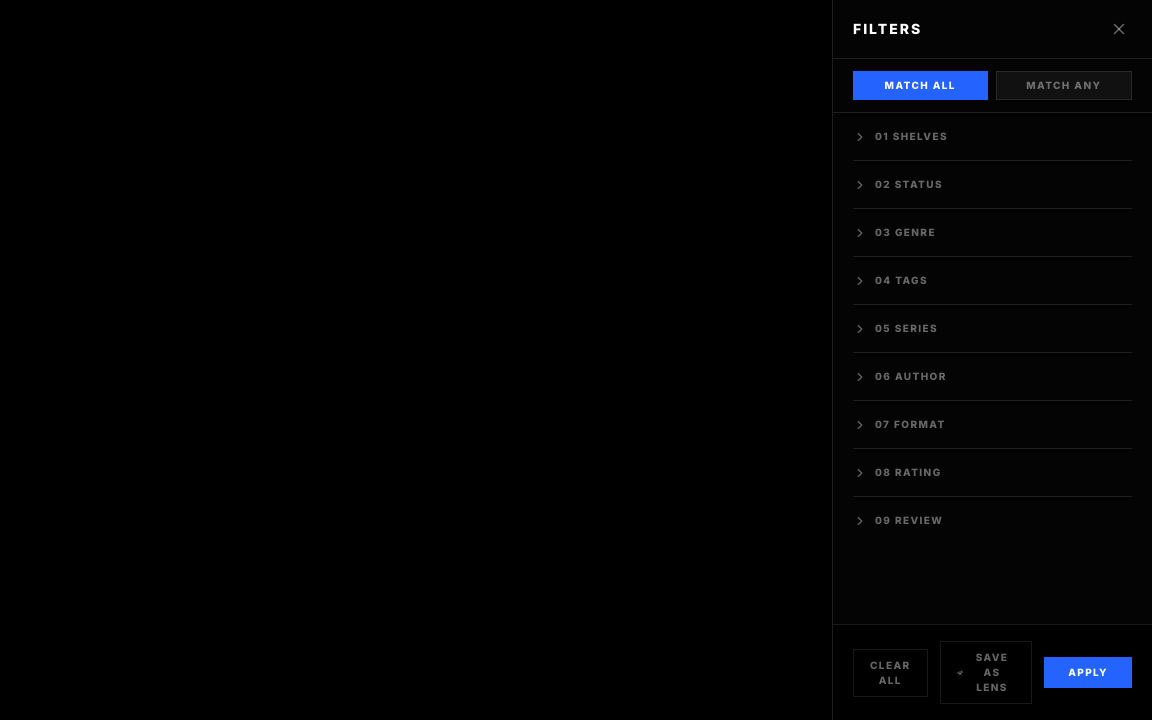
Test: FilterDrawer › opens SaveLensModal when Save as Lens is clicked
Click the button with test id "save-as-lens-btn". click: (986, 672)
box: [940,641,1032,704]
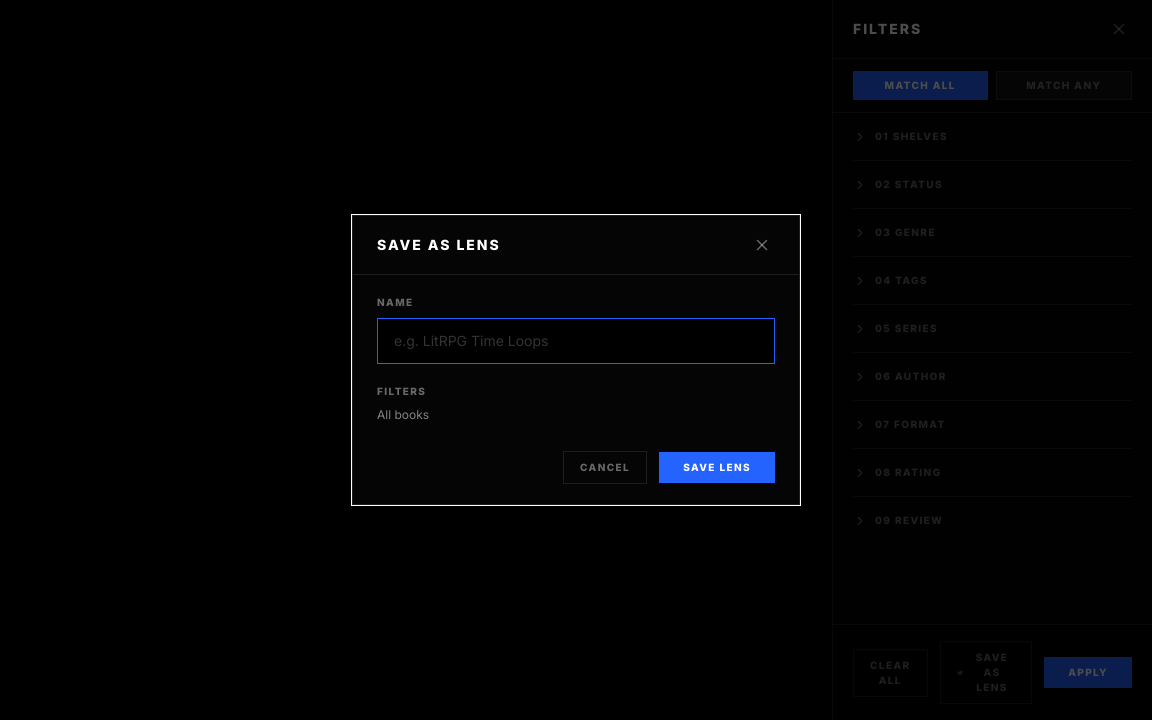
Result: the element with test id "save-lens-modal" is shown at [352,215,800,505]
